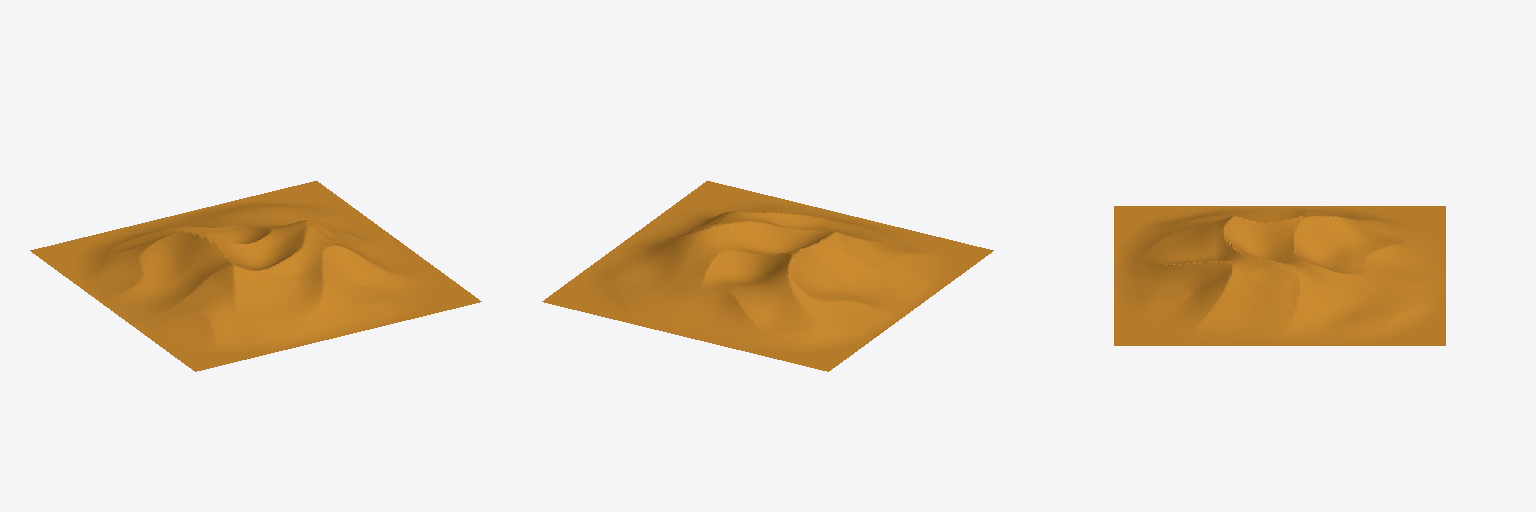
The model's file is DuneMap.obj.
3 views of the same model, side by side, from view 1: azimuth 30°, elevation 25°; view 2: azimuth 150°, elevation 25°; view 3: azimuth 270°, elevation 25° (orthographic).
Parts seen in each view (by area): view 1: DuneMap_Sand.002; view 2: DuneMap_Sand.002; view 3: DuneMap_Sand.002.
Part boxes in pixels (x1,y1,x2,y2): DuneMap_Sand.002: (30,181,481,371); DuneMap_Sand.002: (542,181,993,371); DuneMap_Sand.002: (1114,206,1445,345).
Size of the model in its own units: 2 by 0.2703 by 2.